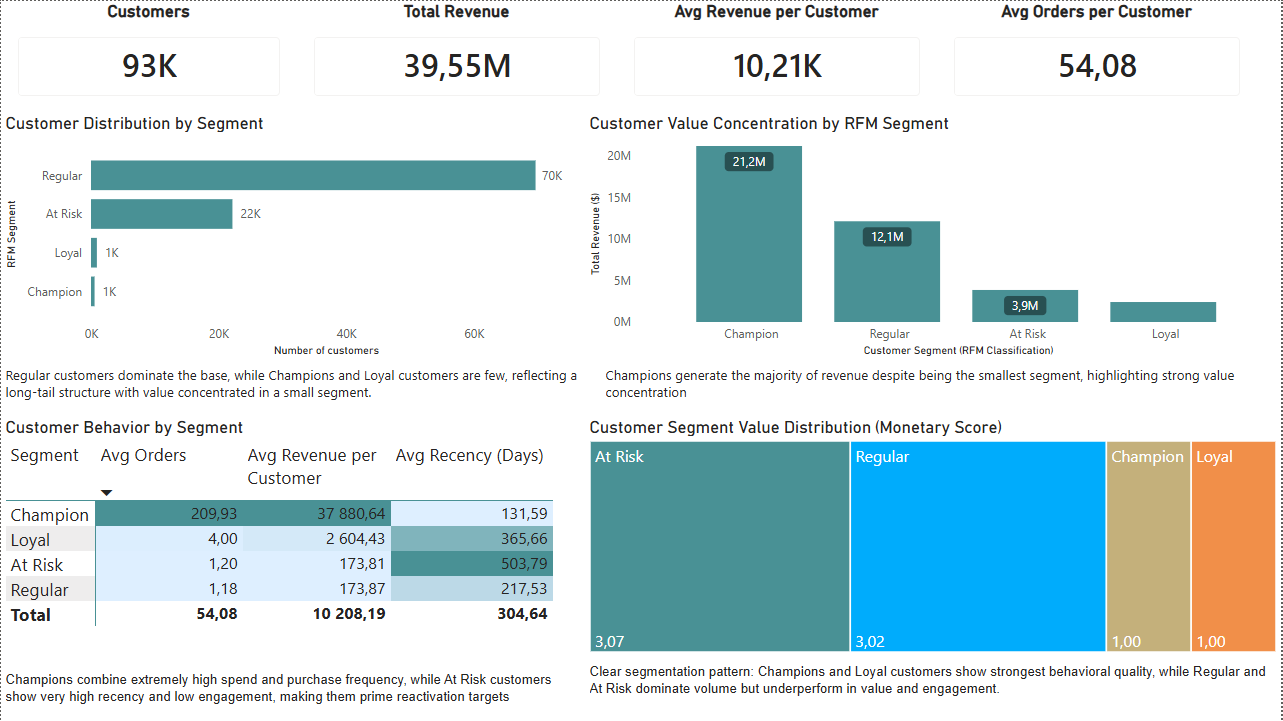

The dashboard page shown, as its layout file describes it:
{"tool":"powerbi","page":{"name":"Page 1","canvas":[1280,720],"ordinal":0},"visuals":[{"type":"barChart","title":"Customer Distribution by Segment","fields":{"Category":["rfm_final_export.rfm_segment"],"Y":["CountNonNull(rfm_final_export.customer_id)"]},"box":[0,112,576,248],"z":0},{"type":"clusteredColumnChart","title":"Customer Value Concentration by RFM Segment","fields":{"Category":["02_rfm_analysis.rfm_segment"],"Y":["Sum(02_rfm_analysis.total_revenue)"]},"box":[584,112,696,248],"z":1000},{"type":"textbox","box":[600,360,680,48],"z":2000},{"type":"textbox","box":[0,360,600,48],"z":3000},{"type":"cardVisual","title":"Customers","fields":{"Data":["02_rfm_analysis.Total Customers"]},"box":[0,0,296,112],"z":4000},{"type":"cardVisual","title":"Total Revenue","fields":{"Data":["Sum(02_rfm_analysis.total_revenue)"]},"box":[296,0,320,112],"z":5000},{"type":"cardVisual","title":"Avg Orders per Customer","fields":{"Data":["Avg(04_segment_summary.avg_orders)"]},"box":[936,0,320,112],"z":6000},{"type":"cardVisual","title":"Avg Revenue per Customer","fields":{"Data":["Avg(02_rfm_analysis.avg_revenue_per_customer)"]},"box":[616,0,320,112],"z":7000},{"type":"pivotTable","title":"Customer Behavior by Segment","fields":{"Rows":["04_segment_summary.rfm_segment"],"Values":["Avg(04_segment_summary.avg_orders)","Avg(04_segment_summary.avg_revenue_per_customer)","Avg(04_segment_summary.avg_recency_days)"]},"box":[0,416,560,240],"z":8000},{"type":"textbox","box":[0,664,576,56],"z":9000},{"type":"treemap","title":"Customer Segment Value Distribution (Monetary Score)","fields":{"Group":["03_rfm_validation.rfm_segment"],"Values":["Avg(03_rfm_validation.avg_m_ntile)"]},"box":[584,416,696,240],"z":10000},{"type":"textbox","box":[584,656,696,64],"z":11000}]}

Visuals, with their boxes in screenshot pixels (x1, y1, x2, y2), scaled from the page's 1280x720 canvas onto the 1283x721 screenshot:
"Customer Distribution by Segment" barChart: region(0, 112, 577, 360)
"Customer Value Concentration by RFM Segment" clusteredColumnChart: region(585, 112, 1282, 360)
textbox: region(601, 360, 1282, 409)
textbox: region(0, 360, 601, 409)
"Customers" cardVisual: region(0, 0, 297, 112)
"Total Revenue" cardVisual: region(297, 0, 617, 112)
"Avg Orders per Customer" cardVisual: region(938, 0, 1259, 112)
"Avg Revenue per Customer" cardVisual: region(617, 0, 938, 112)
"Customer Behavior by Segment" pivotTable: region(0, 417, 561, 657)
textbox: region(0, 665, 577, 720)
"Customer Segment Value Distribution (Monetary Score)" treemap: region(585, 417, 1282, 657)
textbox: region(585, 657, 1282, 720)
